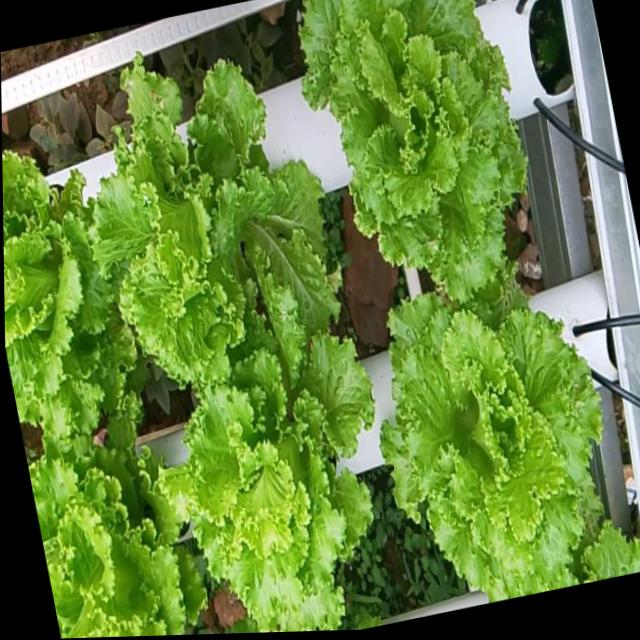Mature: (96, 15, 339, 390), (380, 276, 640, 602), (300, 0, 528, 302), (160, 330, 374, 633), (27, 417, 204, 638), (2, 148, 136, 435)
